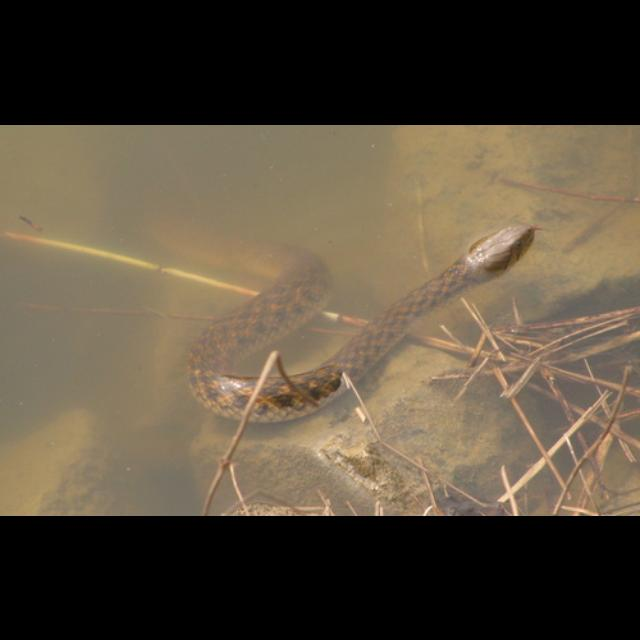snake: (177, 216, 541, 426)
